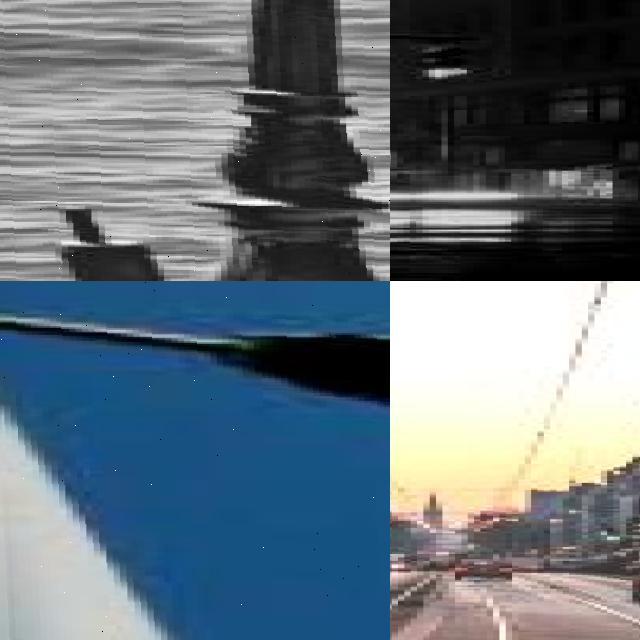street light: (0, 281, 390, 640), (0, 0, 390, 281), (390, 99, 470, 194), (613, 469, 640, 560)
